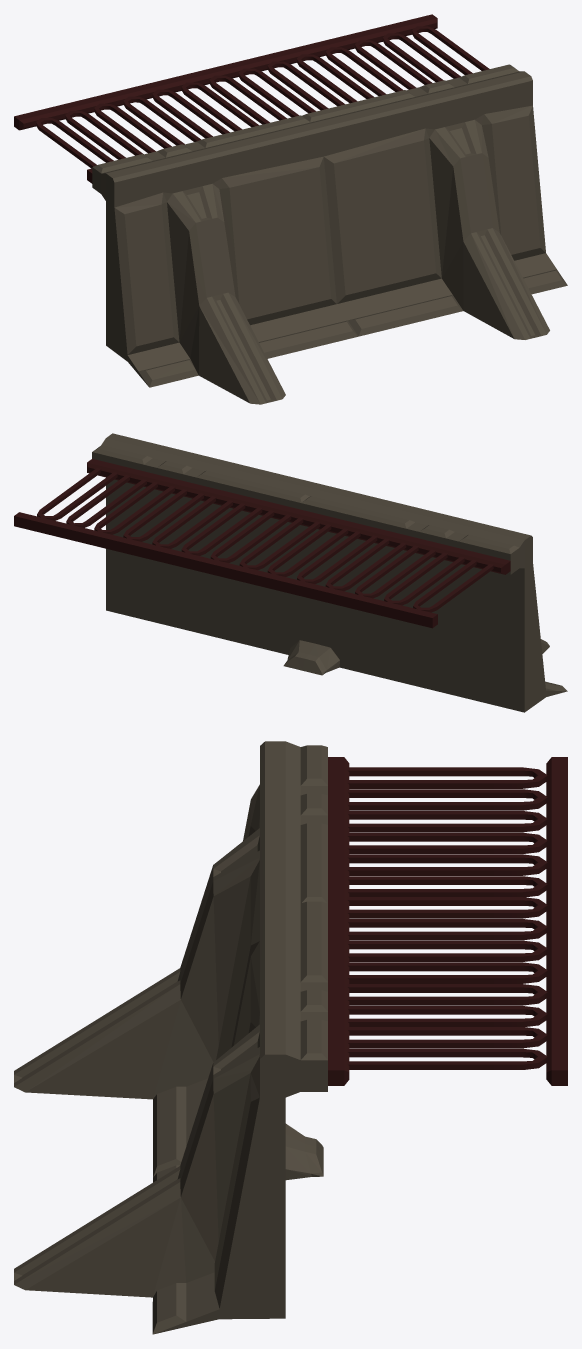
File: P_F_Balcon.fbx
3 renders of one model, top to bottom at view 1: azimuth 30°, elevation 25°; view 2: azimuth 150°, elevation 25°; view 3: azimuth 270°, elevation 25°, orthographic. The views are drawn at different scales.
Visible parts, largest first — view 1: P_F_Balcon; view 2: P_F_Balcon; view 3: P_F_Balcon.
Boxes of the visible parts, <box> form: P_F_Balcon: <box>14,14,567,404</box>; P_F_Balcon: <box>14,433,567,712</box>; P_F_Balcon: <box>14,741,567,1334</box>.
Bounding box in the file's own units: 317 × 132 × 237.
